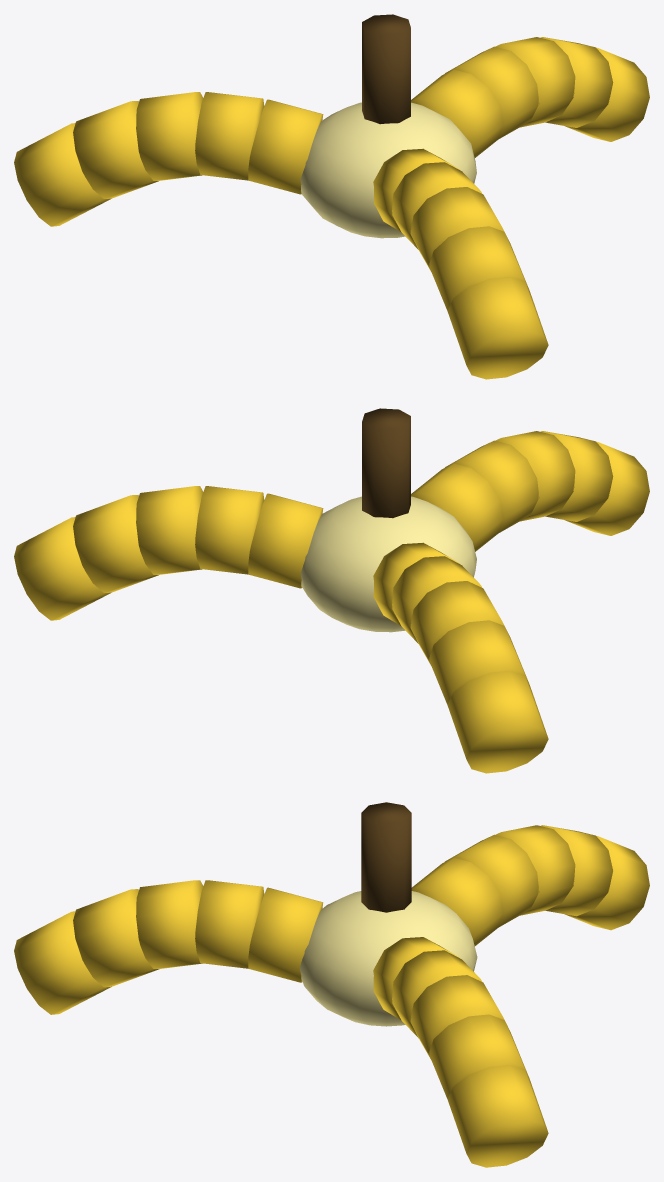
The model's file is BananaPeel.fbx.
3 renders of one model, top to bottom at view 1: azimuth 30°, elevation 25°; view 2: azimuth 150°, elevation 25°; view 3: azimuth 270°, elevation 25°, orthographic.
Visible parts, largest first — view 1: BananaPeel; view 2: BananaPeel; view 3: BananaPeel.
Boxes of the visible parts, x1,y1,x2,y2 form: BananaPeel: [14, 14, 649, 379]; BananaPeel: [14, 408, 649, 773]; BananaPeel: [14, 802, 649, 1167].
Size of the model in its own units: 1.31 by 0.4853 by 1.26.
